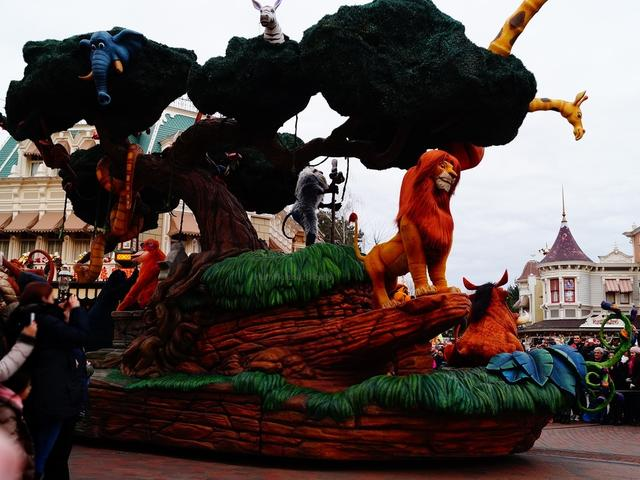lion: (338, 140, 483, 310)
